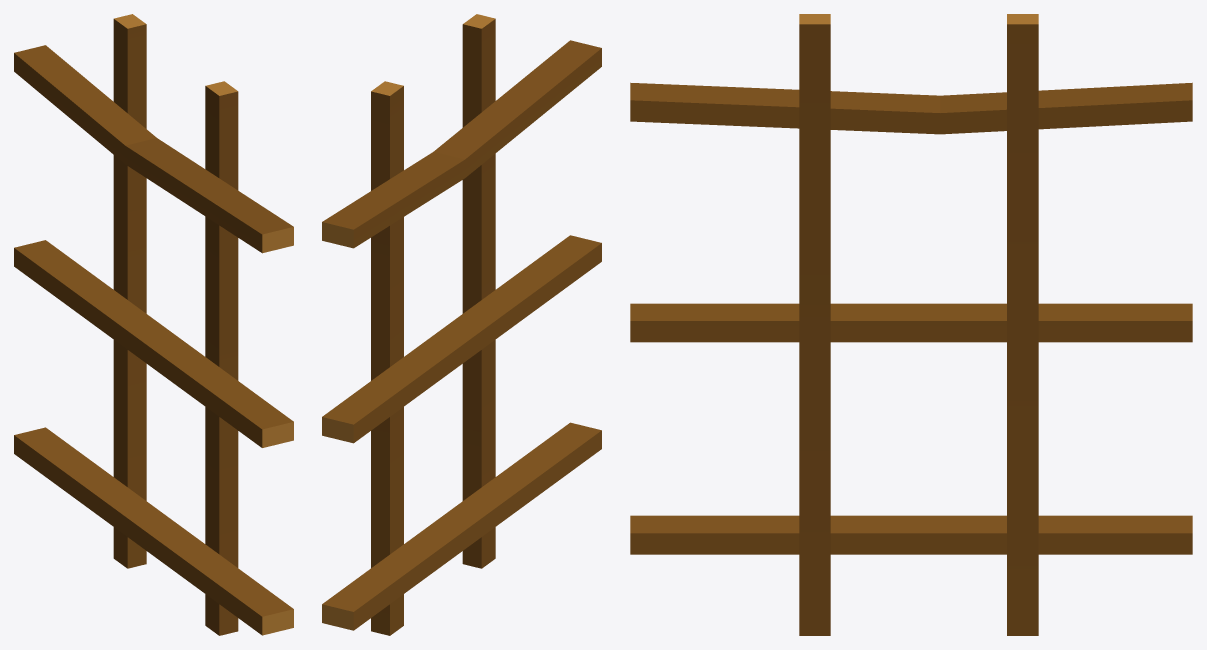
File: WoodFrame_1_2.obj
3 views of the same model, side by side, from view 1: azimuth 30°, elevation 25°; view 2: azimuth 150°, elevation 25°; view 3: azimuth 270°, elevation 25° (orthographic). The views are drawn at different scales.
Visible parts, largest first — view 1: WoodFrame_1_2; view 2: WoodFrame_1_2; view 3: WoodFrame_1_2.
Part boxes in pixels (x1,y1,x2,y2): WoodFrame_1_2: (14,14,293,635); WoodFrame_1_2: (322,14,601,635); WoodFrame_1_2: (630,14,1192,635).
Bounding box in the file's own units: 0.2357 × 2.4 × 2.
